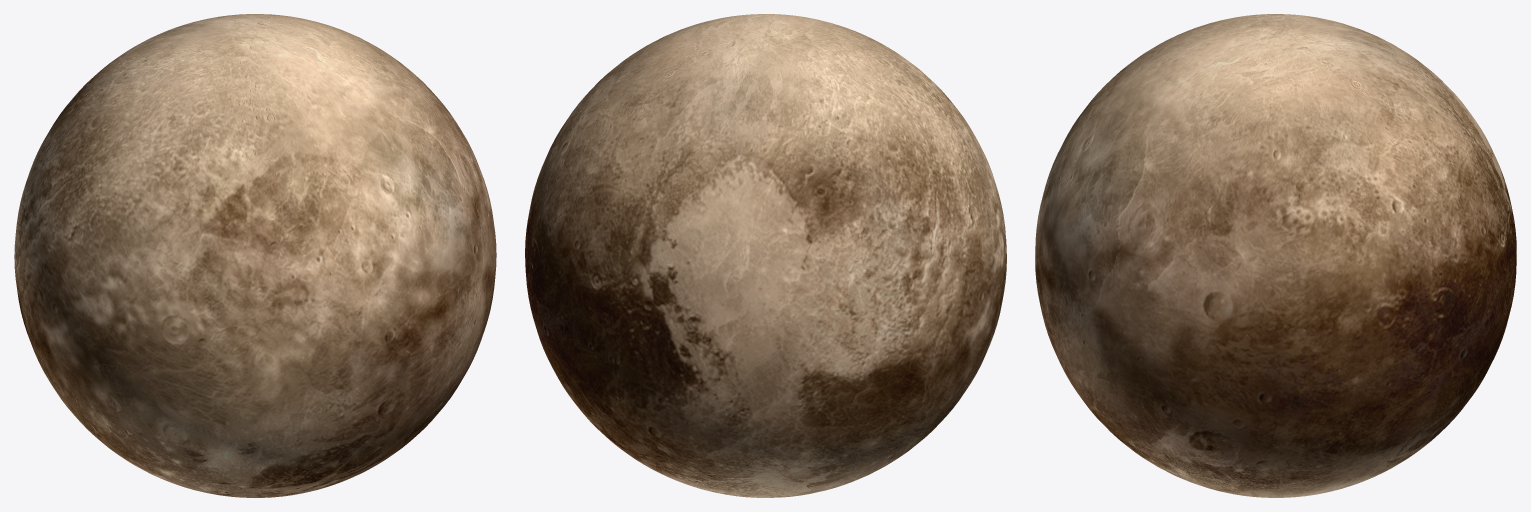
The model's file is pluto.glb.
3 renders of one model, left to right at view 1: azimuth 30°, elevation 25°; view 2: azimuth 150°, elevation 25°; view 3: azimuth 270°, elevation 25°, orthographic.
Parts seen in each view (by area): view 1: pluto_0; view 2: pluto_0; view 3: pluto_0.
Boxes of the visible parts, box(x1,y1,x2,y2) form: pluto_0: box(14, 14, 496, 497); pluto_0: box(525, 14, 1006, 497); pluto_0: box(1035, 14, 1516, 497).
Bounding box in the file's own units: 2.55 × 2.57 × 2.55.
1 material, 1 textured.
